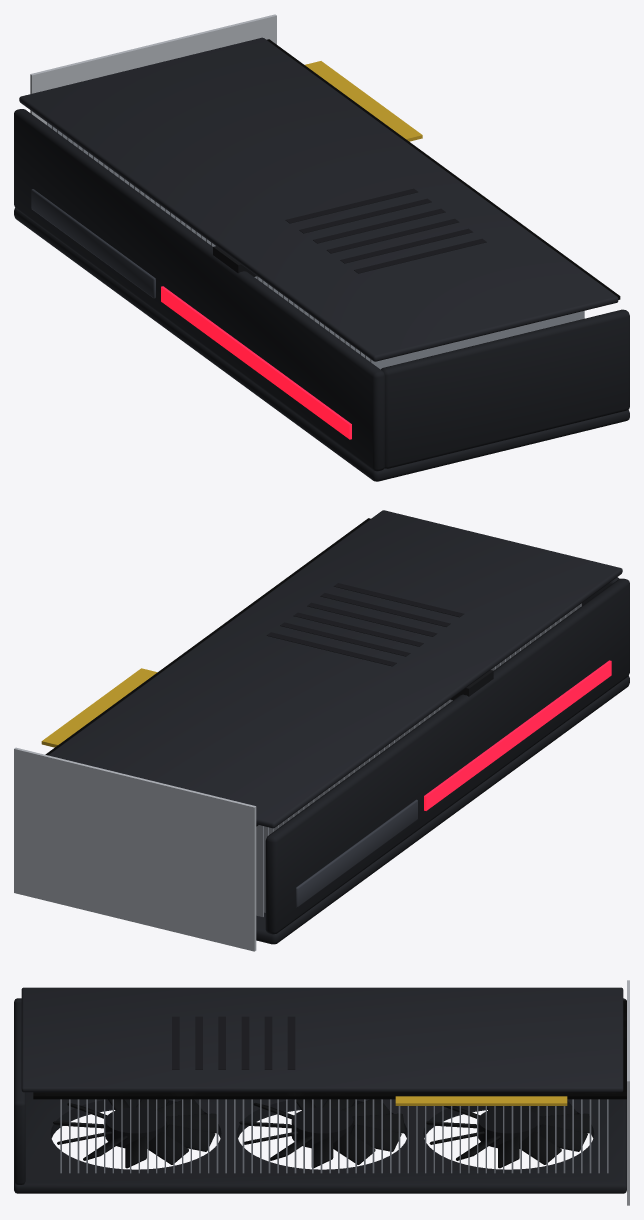
Rendered from gpu-3fan.glb.
3 views of the same model, one above another, from view 1: azimuth 30°, elevation 25°; view 2: azimuth 150°, elevation 25°; view 3: azimuth 270°, elevation 25° (orthographic). The views are drawn at different scales.
Parts seen in each view (by area): view 1: gpu_3fan_core, gpu_3fan_shroud_sides, gpu_3fan_shroud, gpu_3fan_trim; view 2: gpu_3fan_core, gpu_3fan_shroud_sides, gpu_3fan_trim, gpu_3fan_shroud; view 3: gpu_3fan_core, gpu_3fan_shroud, gpu_fan_3, gpu_fan_2.001, gpu_fan_1.001, gpu_3fan_shroud_sides.
Part boxes in pixels (<box>): gpu_3fan_core: <box>19,14,620,369</box>; gpu_3fan_shroud_sides: <box>14,109,629,471</box>; gpu_3fan_shroud: <box>14,208,629,481</box>; gpu_3fan_trim: <box>31,189,351,439</box>; gpu_3fan_core: <box>14,510,622,951</box>; gpu_3fan_shroud_sides: <box>265,577,629,934</box>; gpu_3fan_trim: <box>296,660,611,907</box>; gpu_3fan_shroud: <box>256,676,629,944</box>; gpu_3fan_core: <box>21,980,629,1205</box>; gpu_3fan_shroud: <box>14,1092,626,1193</box>; gpu_fan_3: <box>53,1099,219,1168</box>; gpu_fan_2.001: <box>239,1099,405,1167</box>; gpu_fan_1.001: <box>426,1100,591,1168</box>; gpu_3fan_shroud_sides: <box>14,998,625,1184</box>.
Bounding box in the file's own units: 0.1397 × 0.071 × 0.3195.
13 materials, 1 textured.
